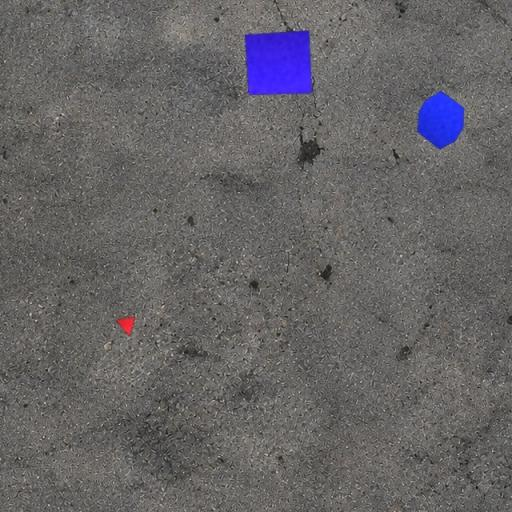BLUE_SQUARE: (245, 30, 313, 96)
